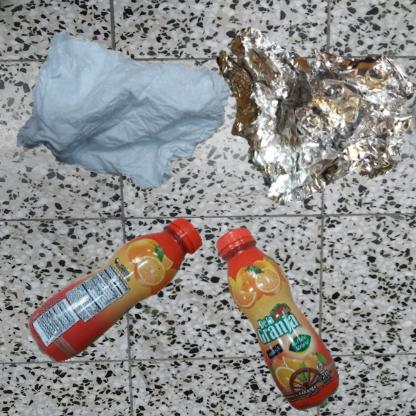aluminio: (213, 10, 416, 213)
botella: (10, 213, 265, 395), (213, 213, 363, 416)
papel: (10, 10, 272, 238)
